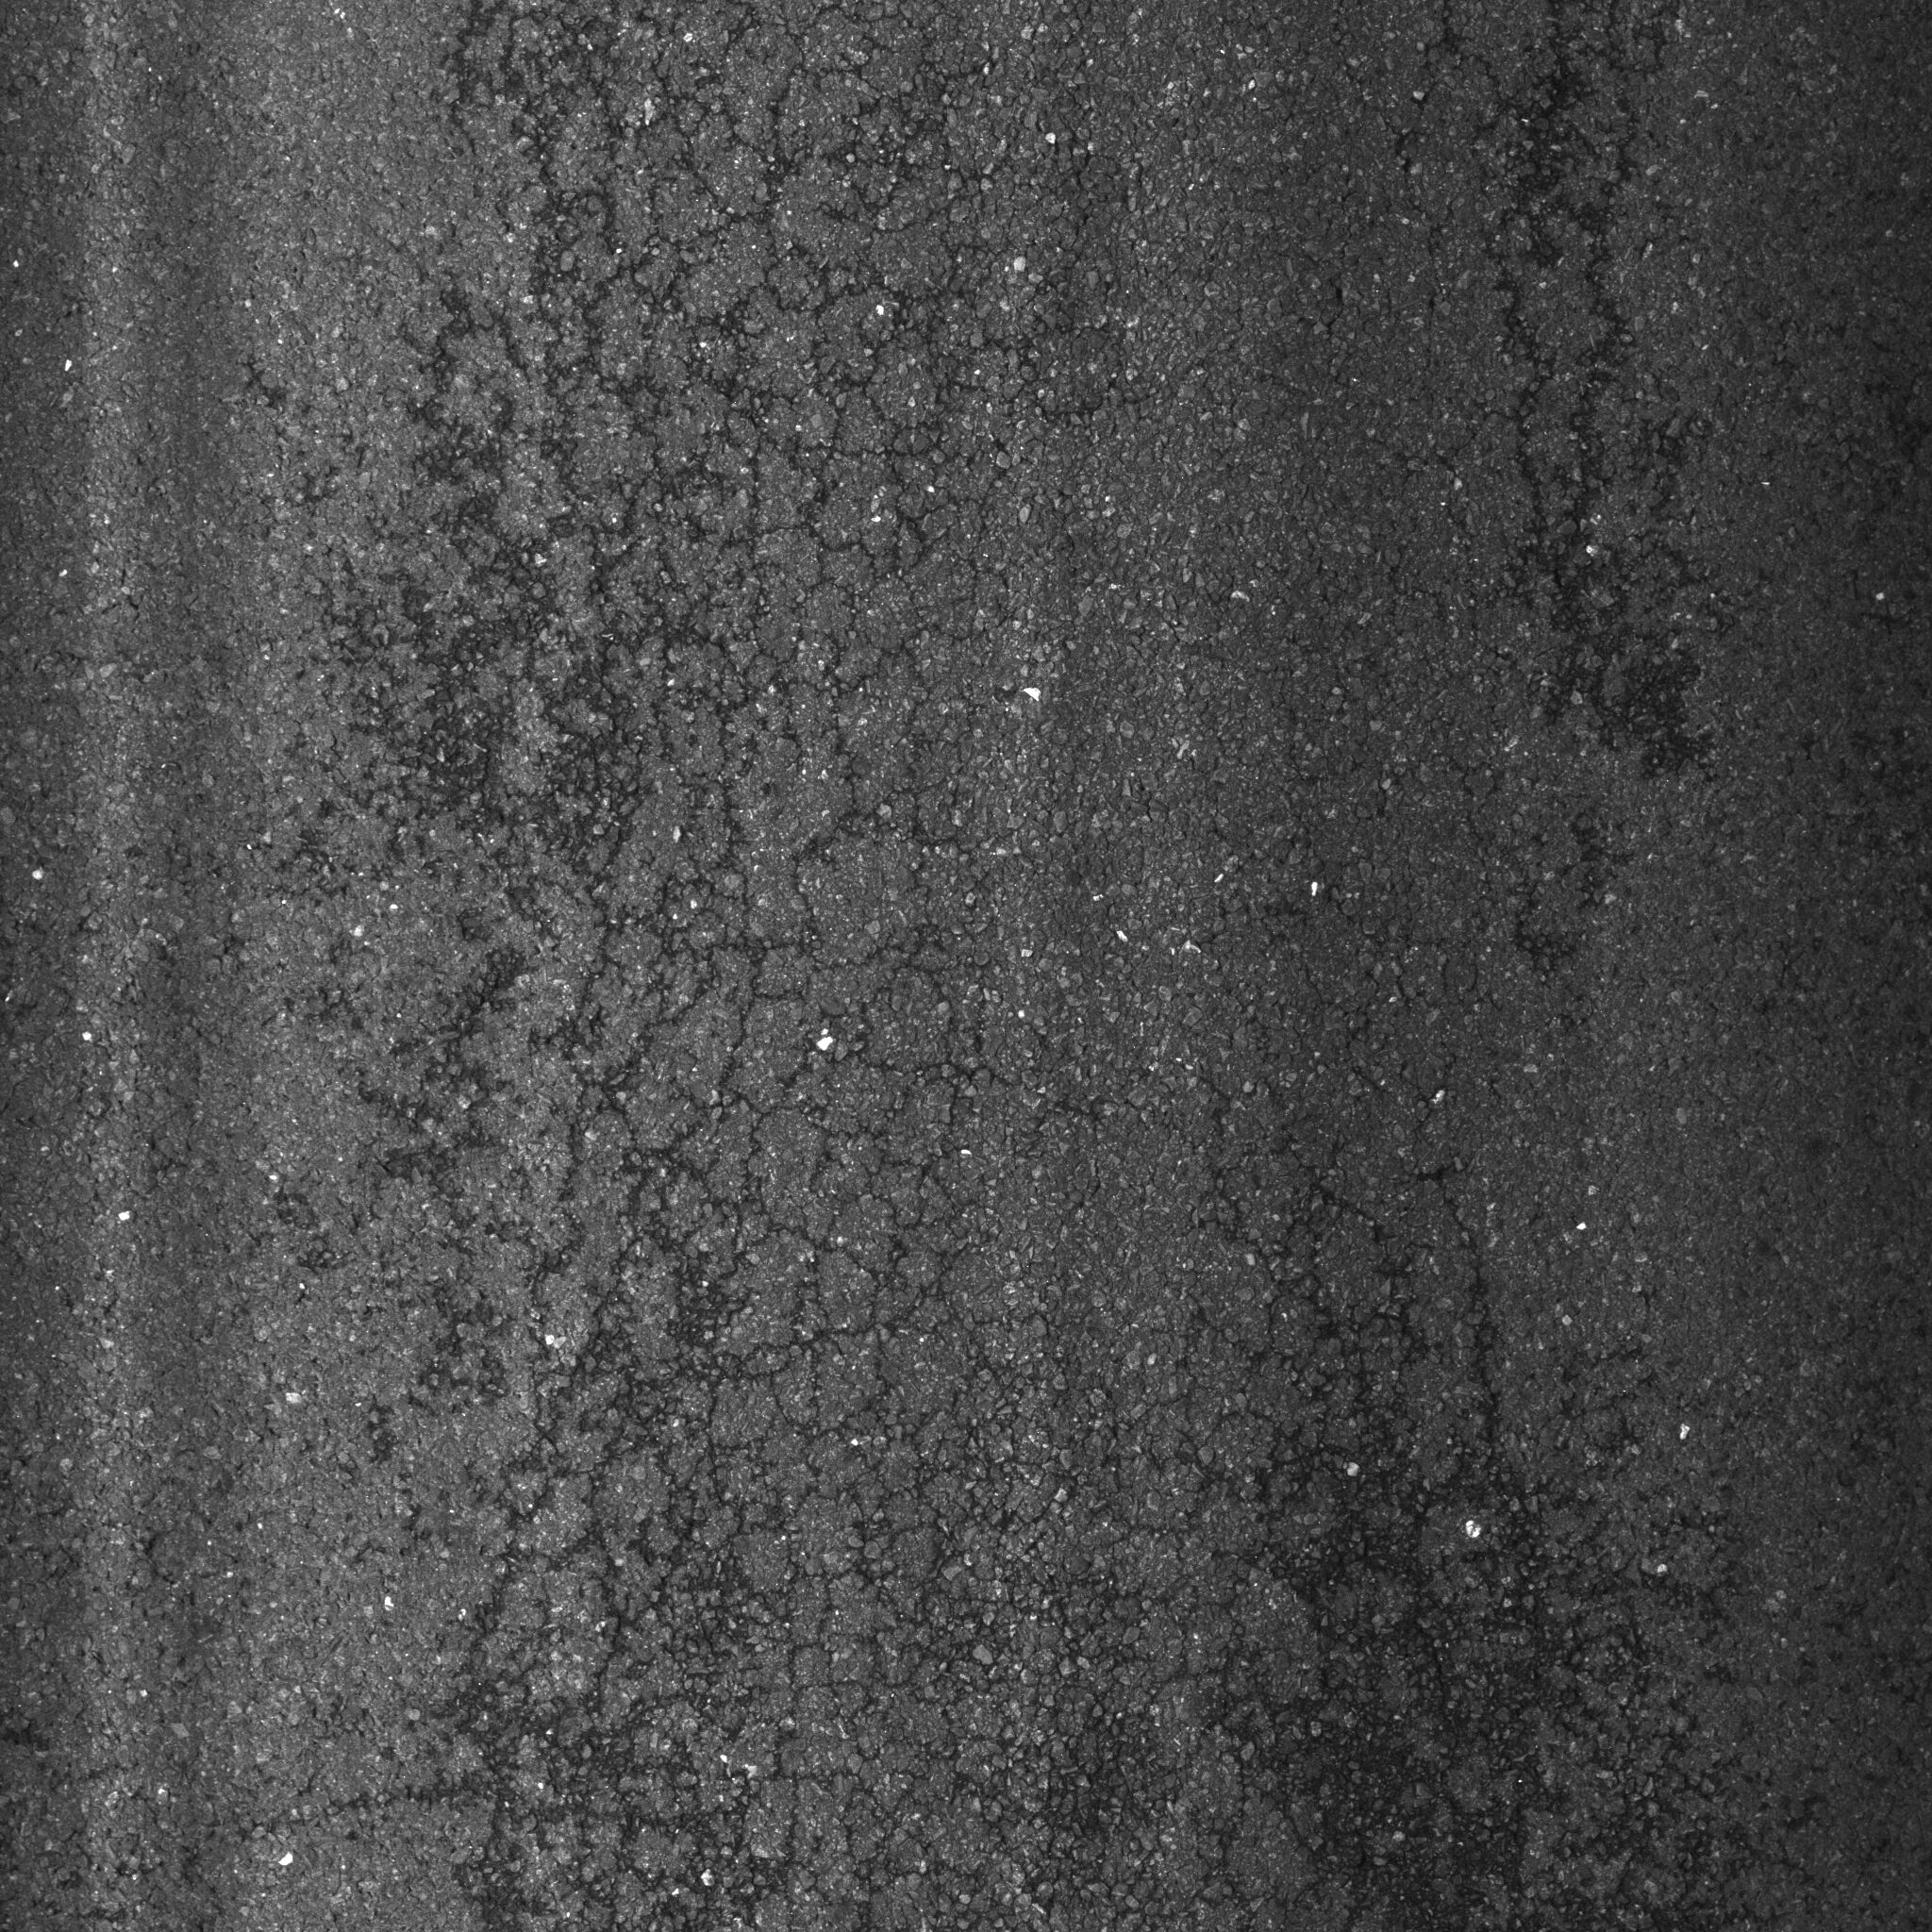alligator: (239, 5, 1744, 1932)
